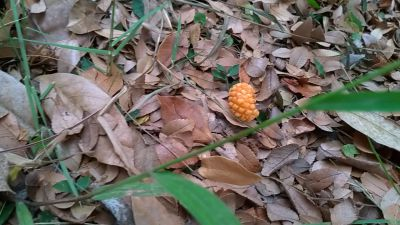eggs: (226, 79, 261, 125)
